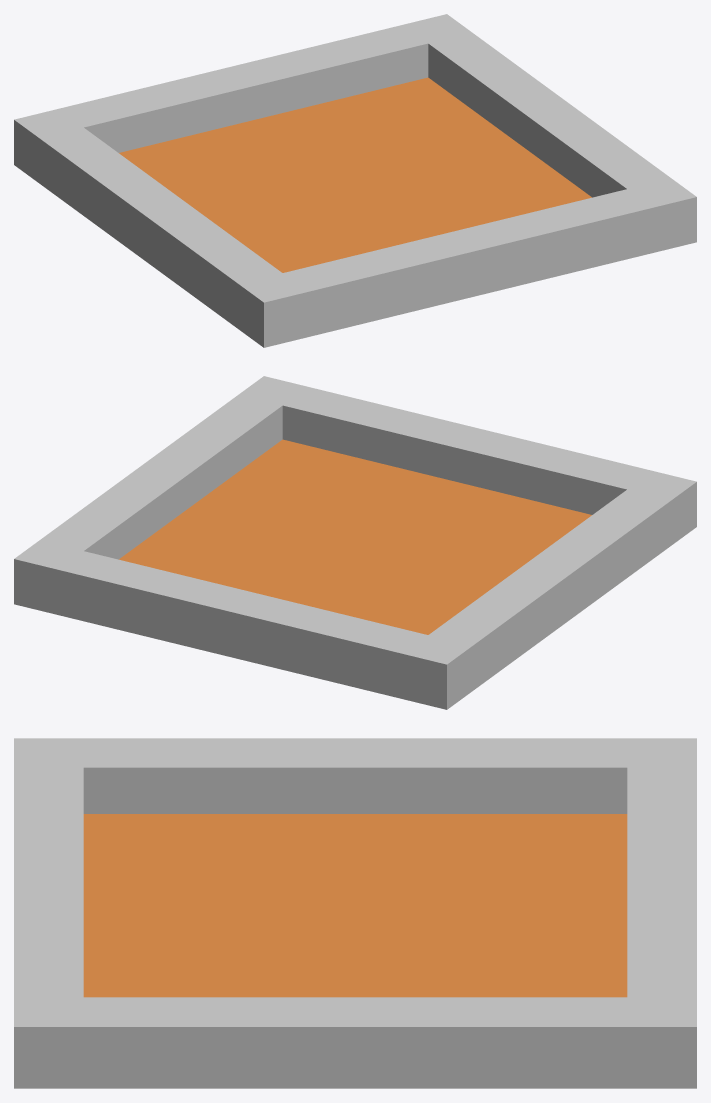
The model's file is conveyorDestroyer.fbx.
3 views of the same model, one above another, from view 1: azimuth 30°, elevation 25°; view 2: azimuth 150°, elevation 25°; view 3: azimuth 270°, elevation 25° (orthographic). The views are drawn at different scales.
Parts seen in each view (by area): view 1: Cube.002; view 2: Cube.002; view 3: Cube.002.
Part boxes in pixels (box(x1,y1,x2,y2)): Cube.002: box(14, 14, 696, 347); Cube.002: box(14, 376, 696, 709); Cube.002: box(14, 738, 696, 1088).
Size of the model in its own units: 200 by 20 by 200.
